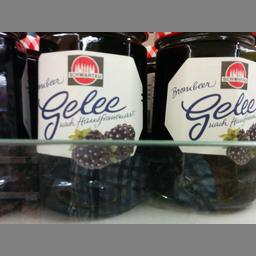jam: (28, 31, 148, 217), (148, 31, 254, 210)
